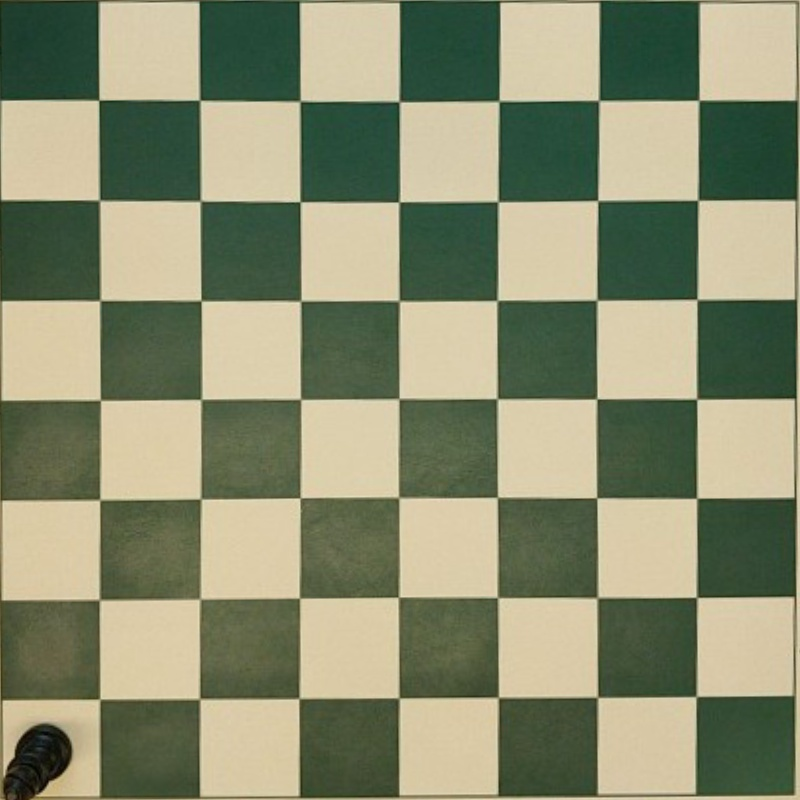black-bishop: (1, 723, 72, 799)
